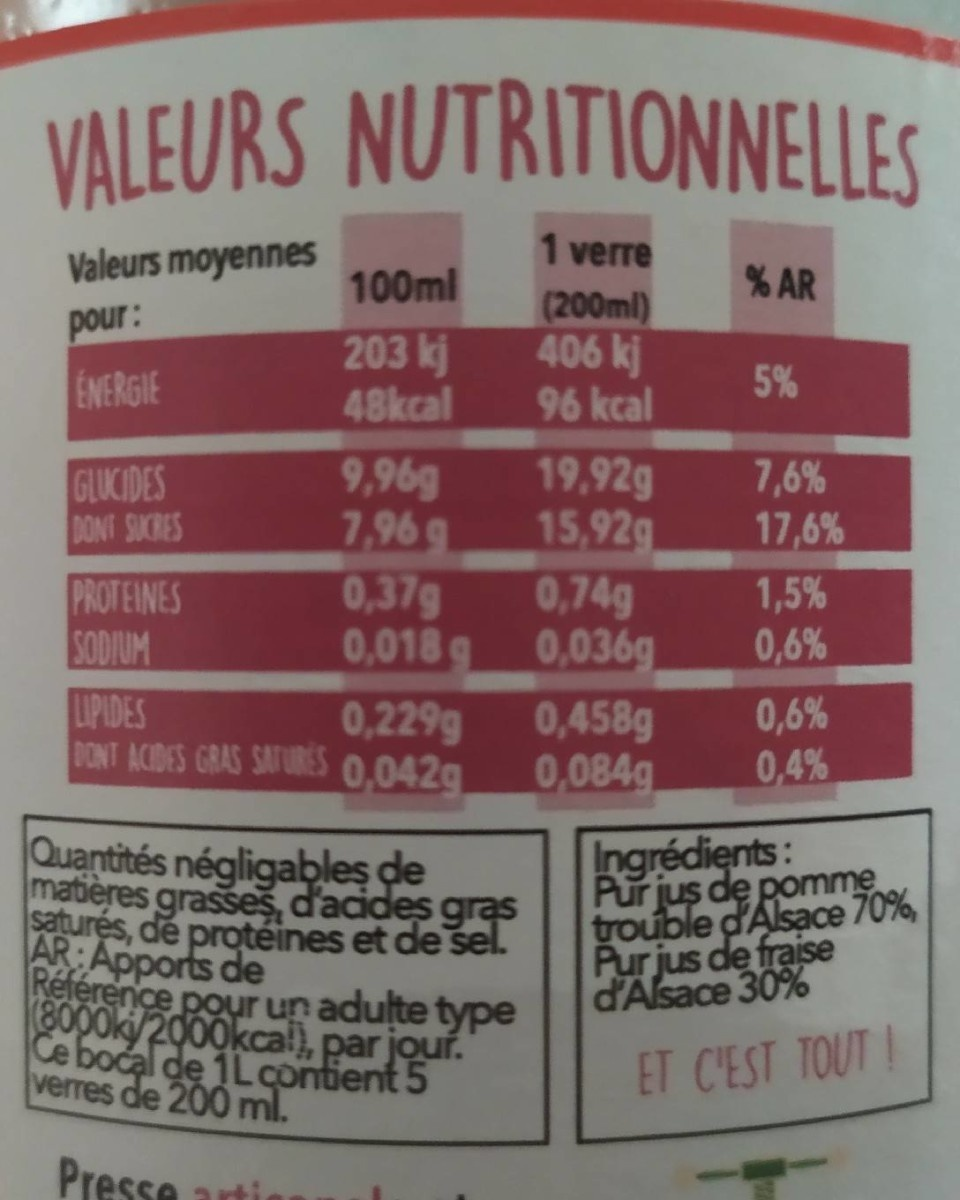column: (70, 230, 328, 790), (339, 221, 473, 808), (535, 223, 655, 799), (741, 219, 833, 810)
table: (66, 210, 908, 821)
